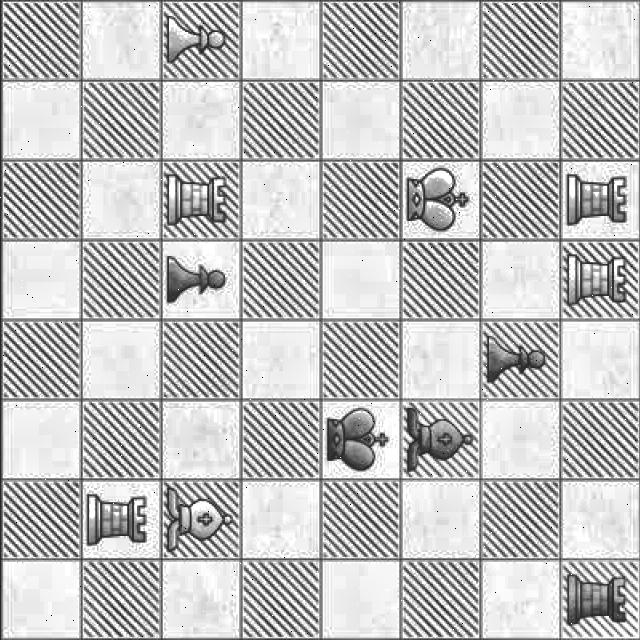black bishop: (402, 402, 476, 474)
black king: (322, 400, 392, 474)
black pawn: (160, 244, 237, 315), (478, 326, 550, 386)
black rook: (562, 568, 636, 632)
white bishop: (165, 484, 235, 554)
white king: (400, 164, 472, 233)
white pawn: (164, 4, 228, 76)
white rook: (84, 488, 158, 548), (561, 170, 633, 230), (560, 252, 632, 310), (164, 168, 228, 232)
